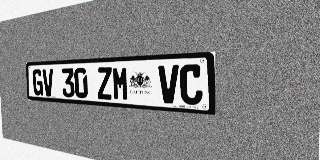0: (74, 68, 88, 98)
3: (62, 68, 75, 98)
C: (180, 64, 203, 105)
G: (32, 69, 43, 96)
M: (112, 66, 129, 101)
V: (158, 65, 179, 104), (42, 69, 54, 96)
Z: (97, 67, 112, 100)
